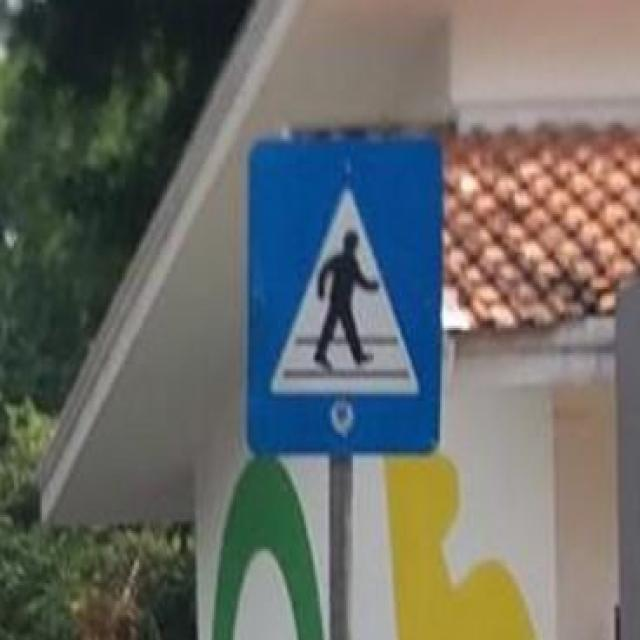traffic sign: (249, 141, 440, 456)
